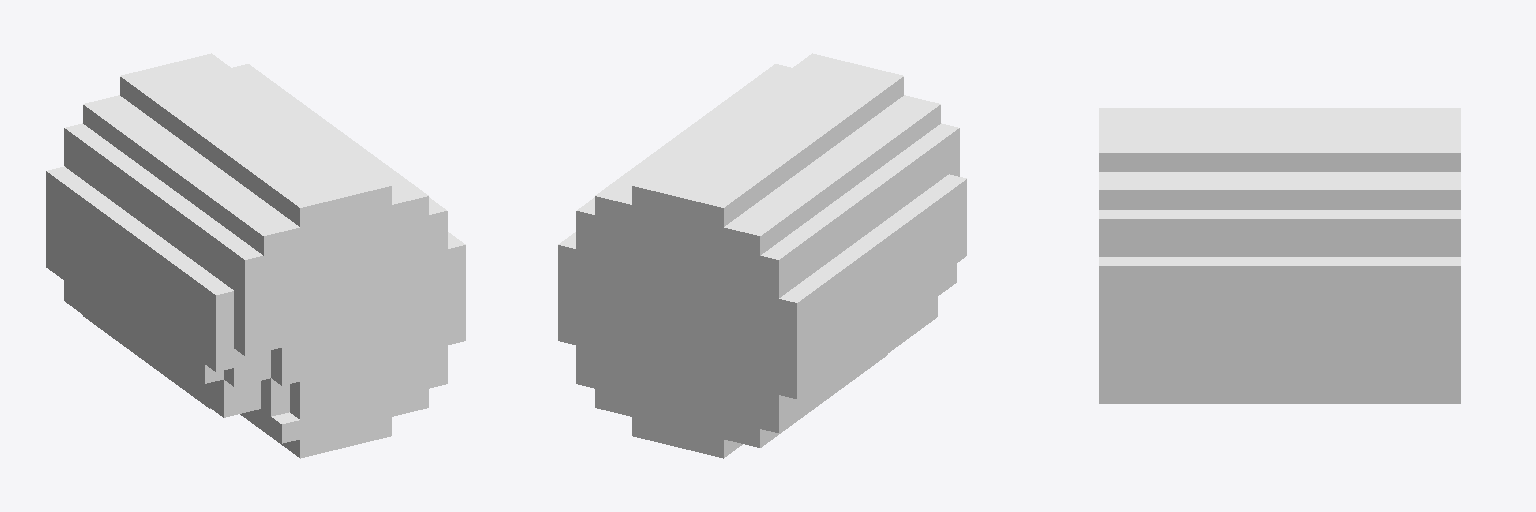
File: VoxelNuke-10-Barrel-1.obj
3 views of the same model, side by side, from view 1: azimuth 30°, elevation 25°; view 2: azimuth 150°, elevation 25°; view 3: azimuth 270°, elevation 25° (orthographic).
Parts seen in each view (by area): view 1: Barrel-1; view 2: Barrel-1; view 3: Barrel-1.
Part boxes in pixels (x1,y1,x2,y2): Barrel-1: (46, 53, 465, 458); Barrel-1: (558, 53, 966, 458); Barrel-1: (1099, 108, 1460, 403).
Size of the model in its own units: 0.26 by 0.26 by 0.34.